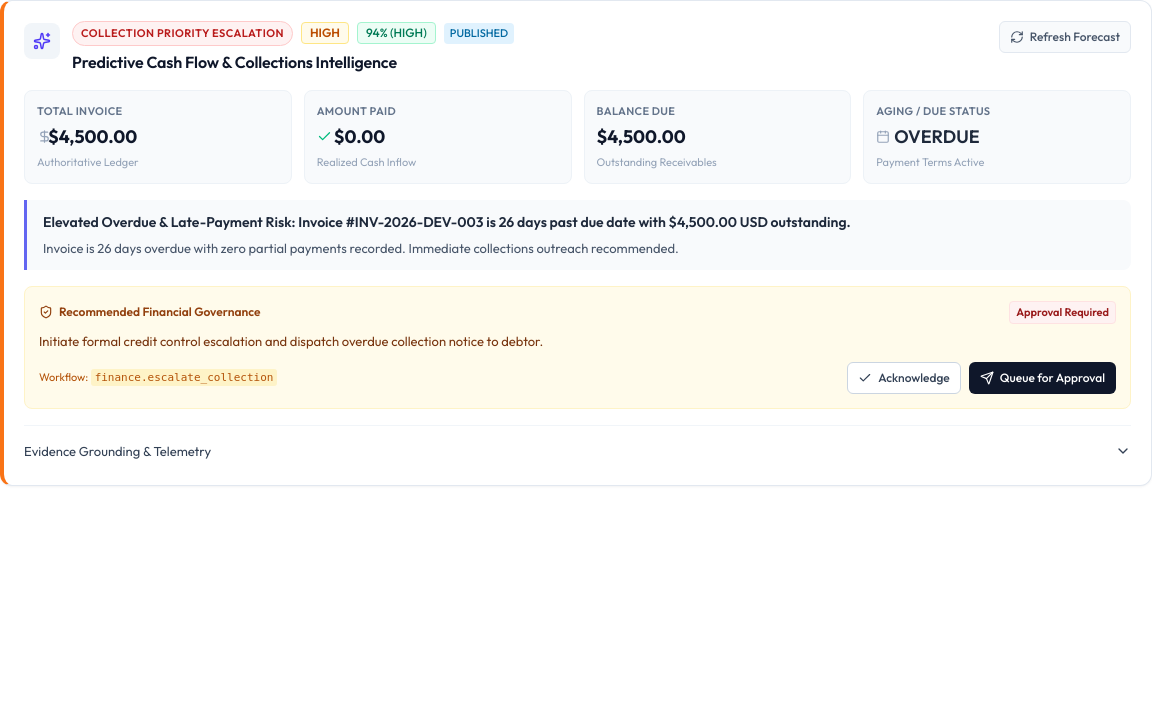
Test: FinanceCollectionsPredictiveIntelligenceCard › handles action request submission with HITL approval feedback
This screenshot has width=1152, height=720.
Click the button "Queue for Approval" at (1042, 378), box [969,362,1116,394]
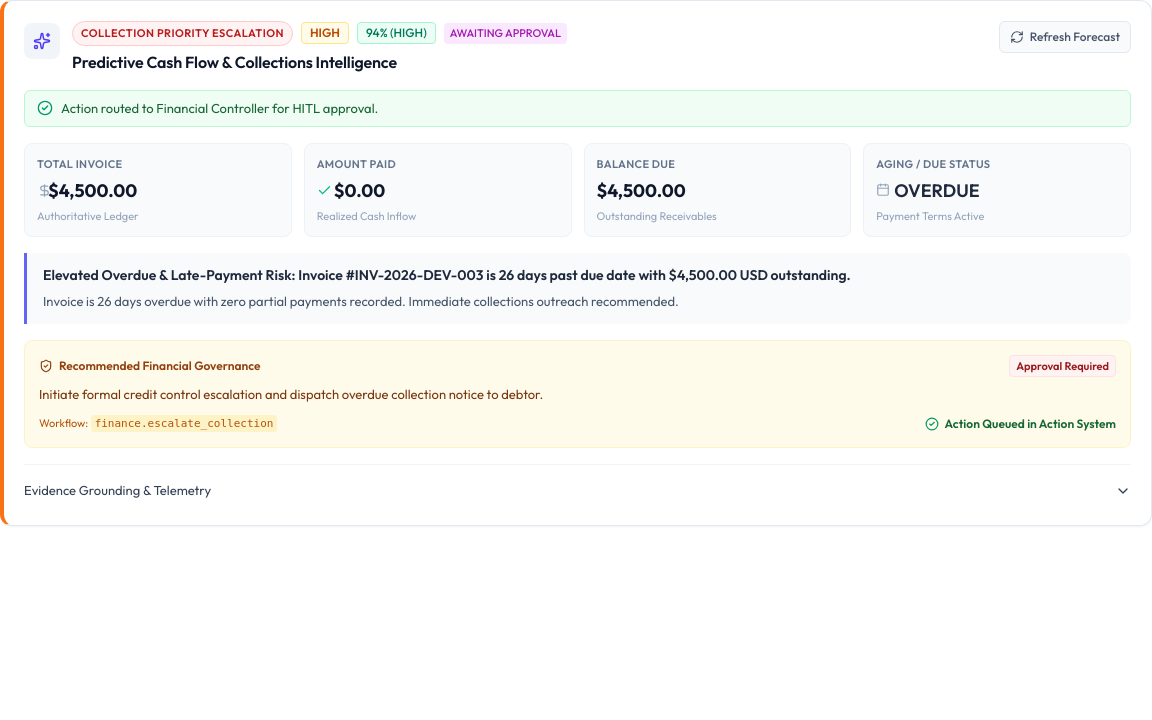
Expected: the text "Action routed to Financial Controller for HITL approval." is shown, [61,98,378,118]
